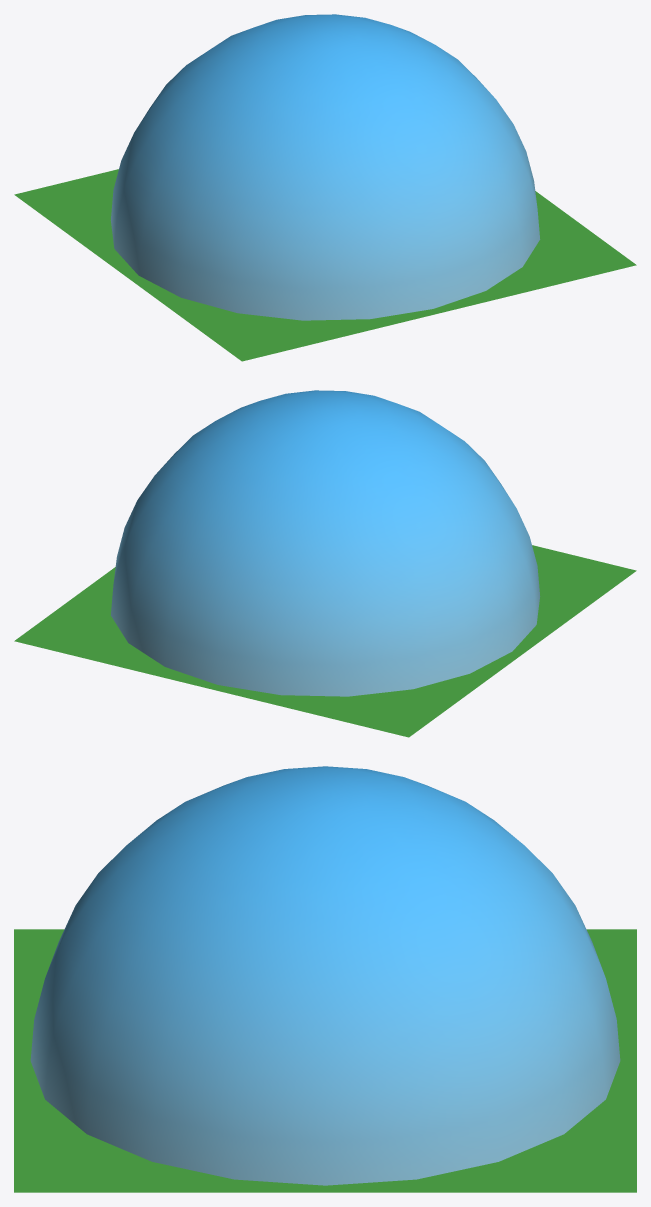
The model's file is env_level.fbx.
3 views of the same model, one above another, from view 1: azimuth 30°, elevation 25°; view 2: azimuth 150°, elevation 25°; view 3: azimuth 270°, elevation 25° (orthographic). The views are drawn at different scales.
Parts seen in each view (by area): view 1: pSphere1, pCube1; view 2: pSphere1, pCube1; view 3: pSphere1, pCube1.
Part boxes in pixels (bbox=[...]): pSphere1: bbox=[110, 14, 540, 320]; pCube1: bbox=[14, 169, 636, 361]; pSphere1: bbox=[110, 390, 540, 696]; pCube1: bbox=[14, 545, 636, 737]; pSphere1: bbox=[30, 766, 620, 1185]; pCube1: bbox=[14, 929, 636, 1192].
Size of the model in its own units: 314 by 149 by 314.
